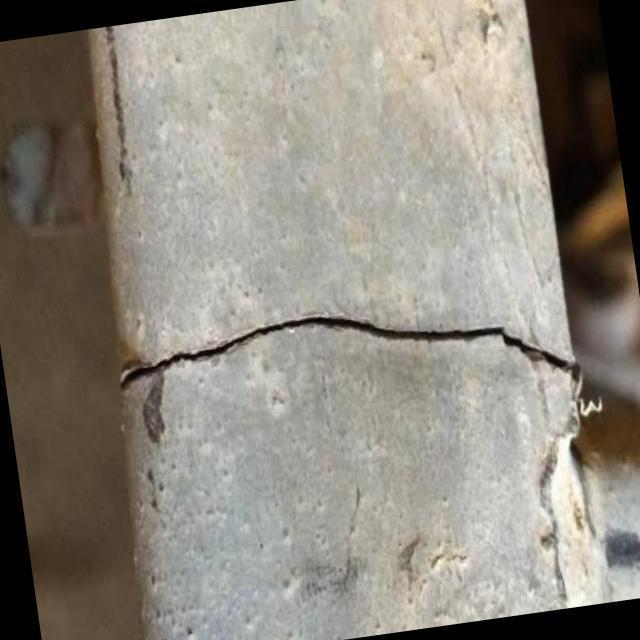defect: (114, 306, 582, 399)
